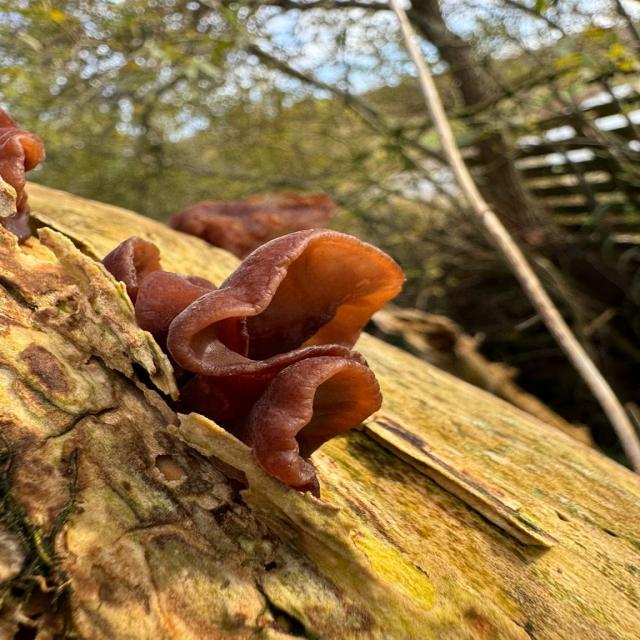Matang: (104, 223, 405, 500), (0, 107, 49, 251)
